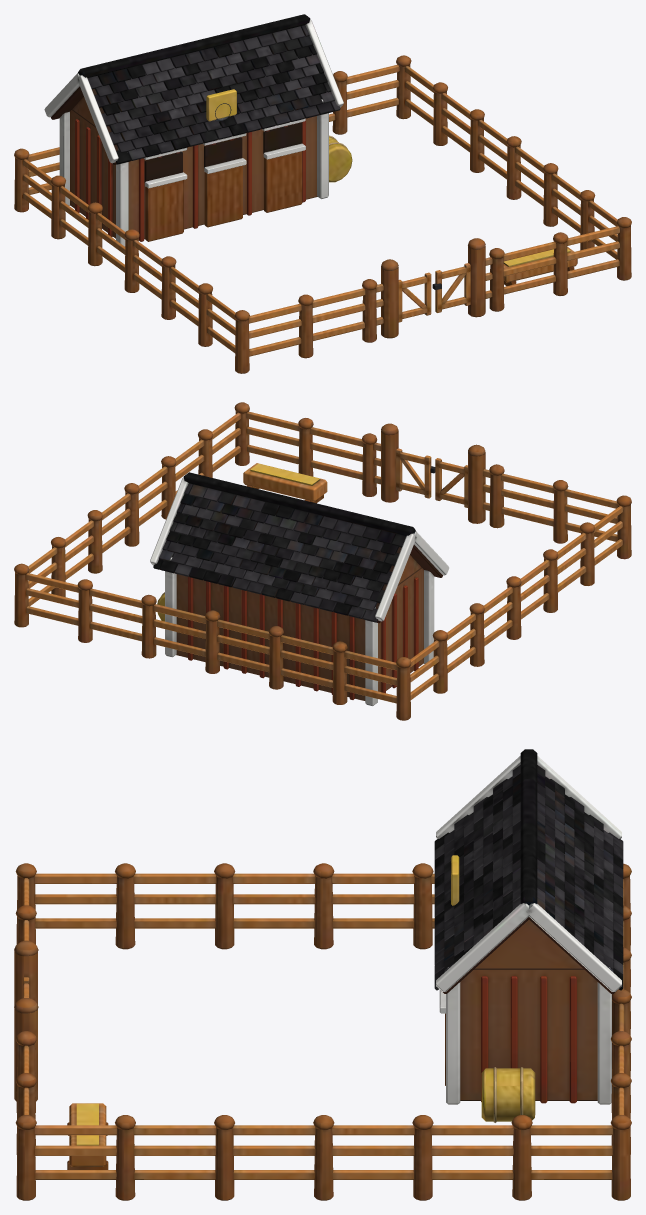
Rendered from friesian_stable.glb.
3 renders of one model, top to bottom at view 1: azimuth 30°, elevation 25°; view 2: azimuth 150°, elevation 25°; view 3: azimuth 270°, elevation 25°, orthographic. The views are drawn at different scales.
Visible parts, largest first — view 1: friesian_stable, gate1, gate0; view 2: friesian_stable, gate1, gate0; view 3: friesian_stable.
Part boxes in pixels (x1,y1,x2,y2): friesian_stable: [14, 14, 631, 373]; gate1: [432, 263, 470, 312]; gate0: [398, 272, 431, 322]; friesian_stable: [14, 402, 631, 720]; gate1: [396, 448, 435, 498]; gate0: [435, 458, 467, 507]; friesian_stable: [14, 749, 631, 1200].
Bounding box in the file's own units: 3 × 1.16 × 3.01.
Materials: 1 (1 with a texture image).
